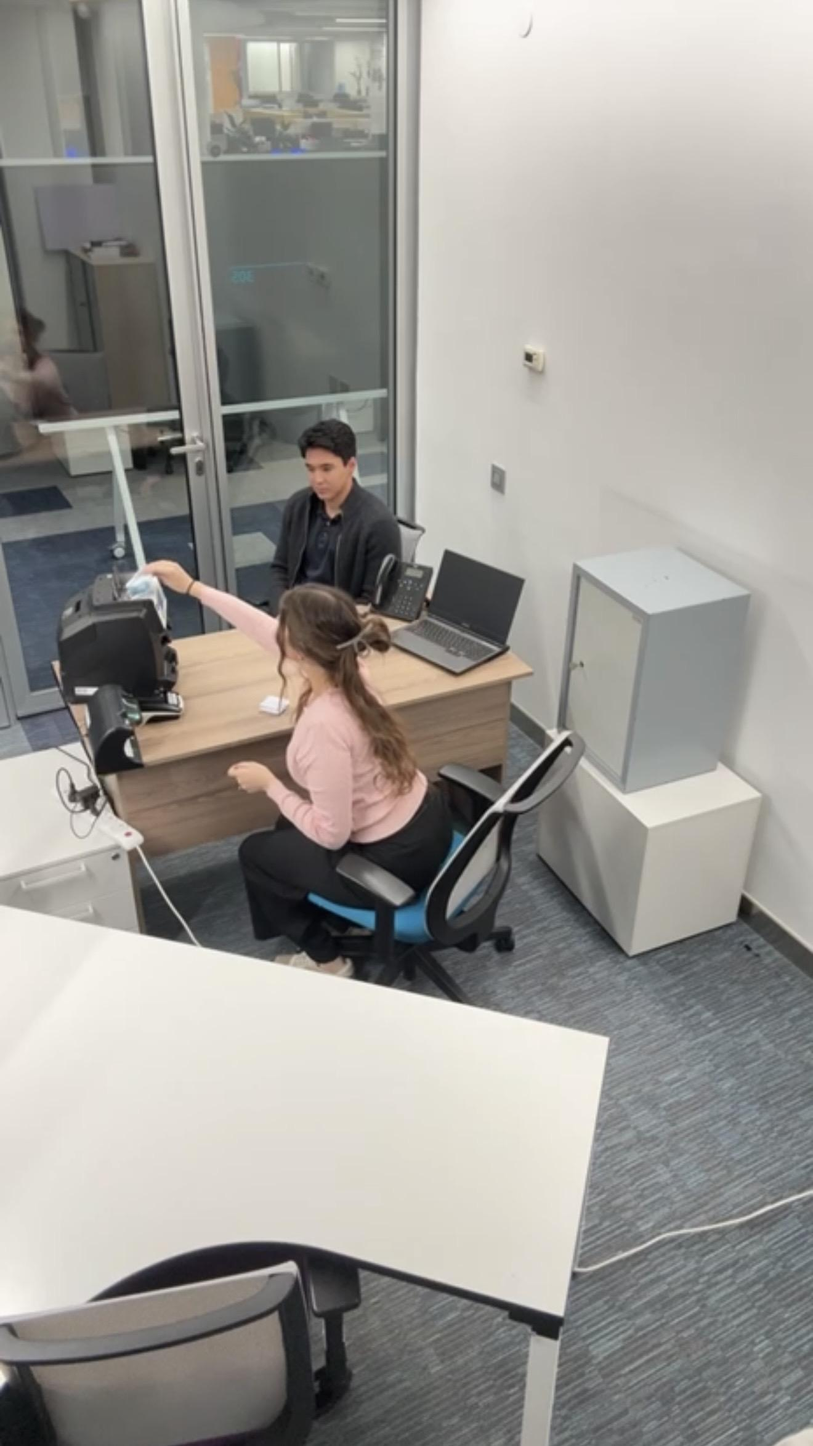cash_stack: (125, 561, 179, 608)
counter: (43, 561, 185, 692)
key_in: (558, 641, 589, 686)
uv_lamp: (72, 682, 148, 762)
